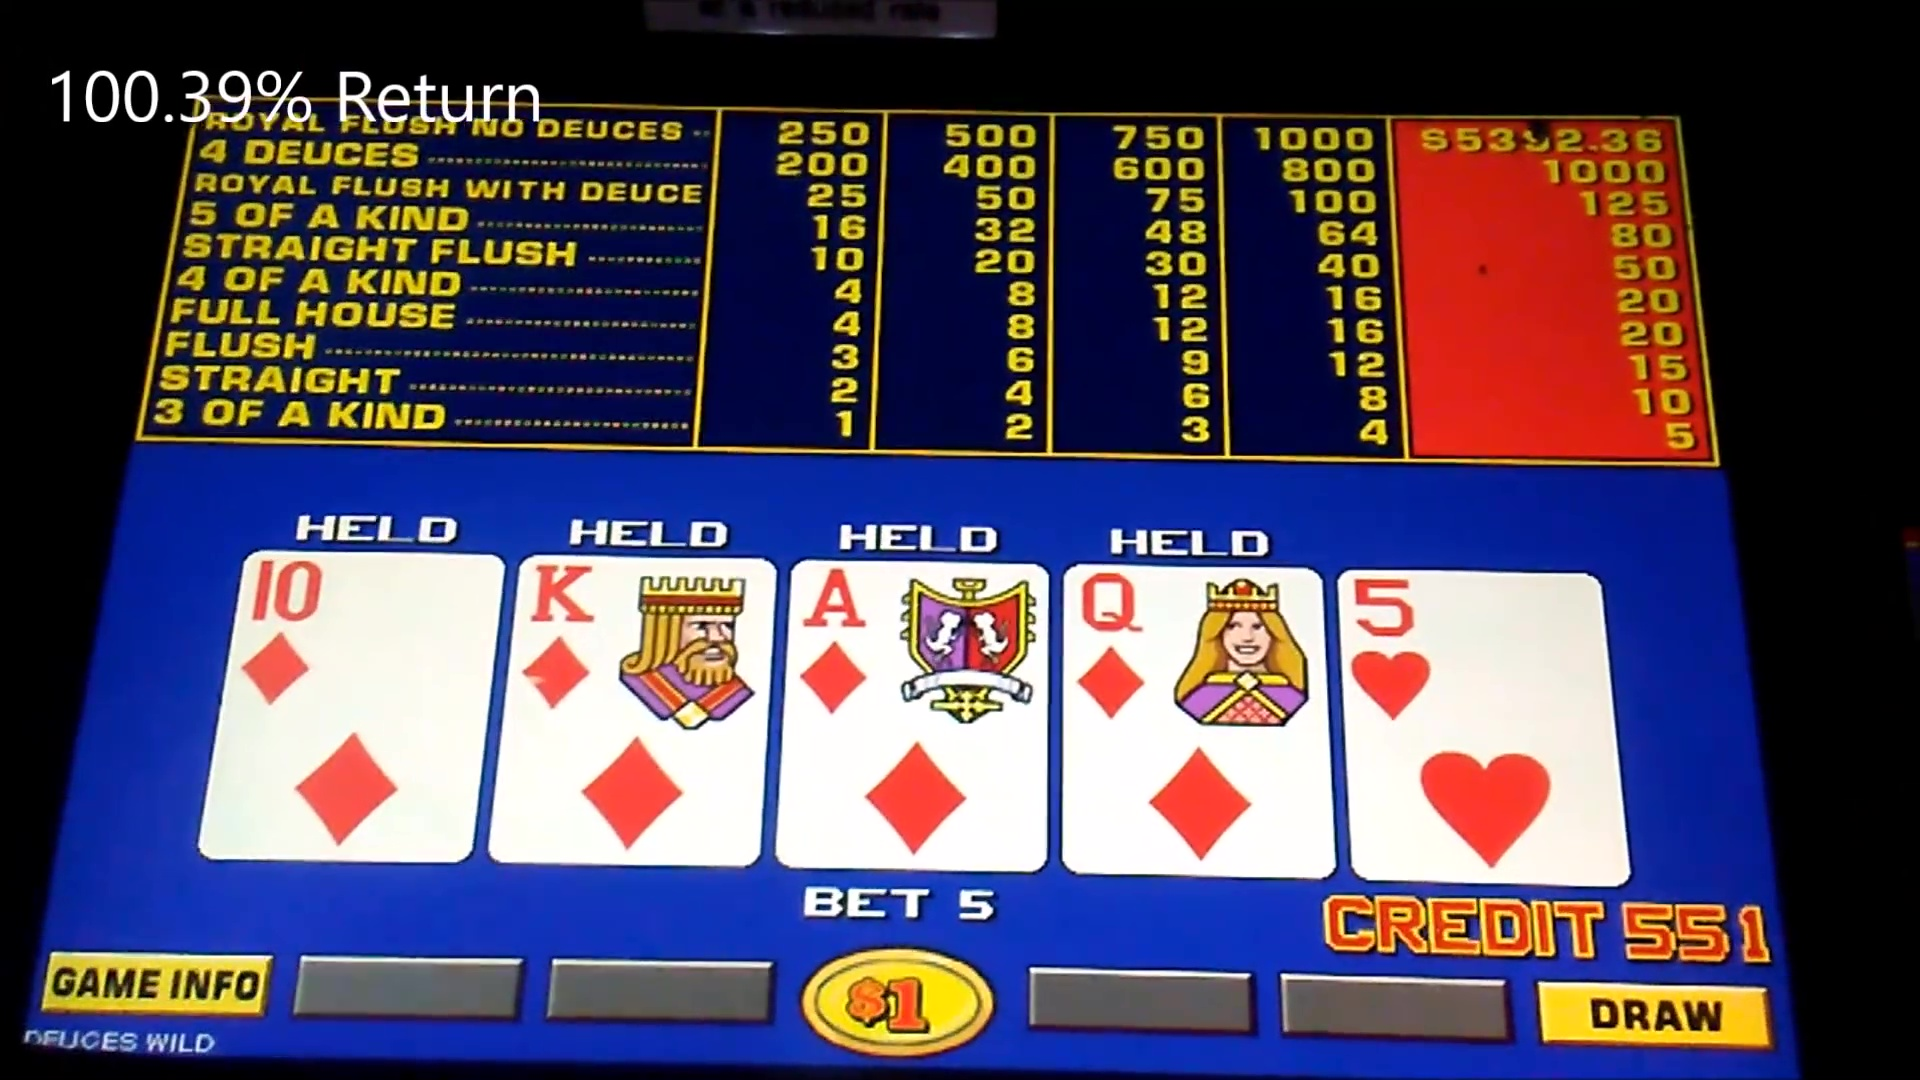DA: (785, 564, 1048, 716)
DK: (509, 558, 766, 711)
DQ: (1064, 568, 1324, 721)
DT: (233, 551, 491, 704)
H5: (1346, 574, 1609, 727)
